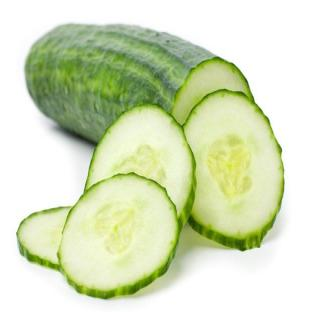Cucumber: (26, 25, 252, 142), (184, 91, 283, 250), (58, 174, 179, 298), (86, 104, 195, 227), (17, 207, 70, 269)
